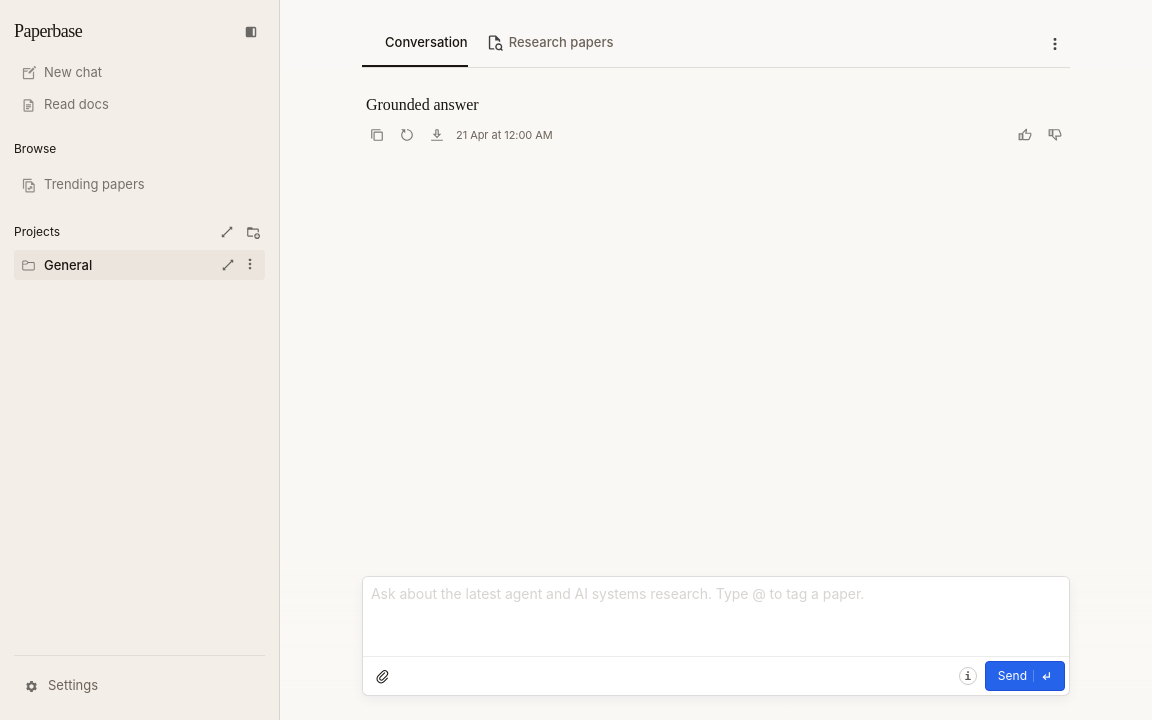
it: App › restores the active resource for an authenticated session
Click the button named "Open chat debug info". click: point(968, 676)
box: [959, 667, 977, 685]
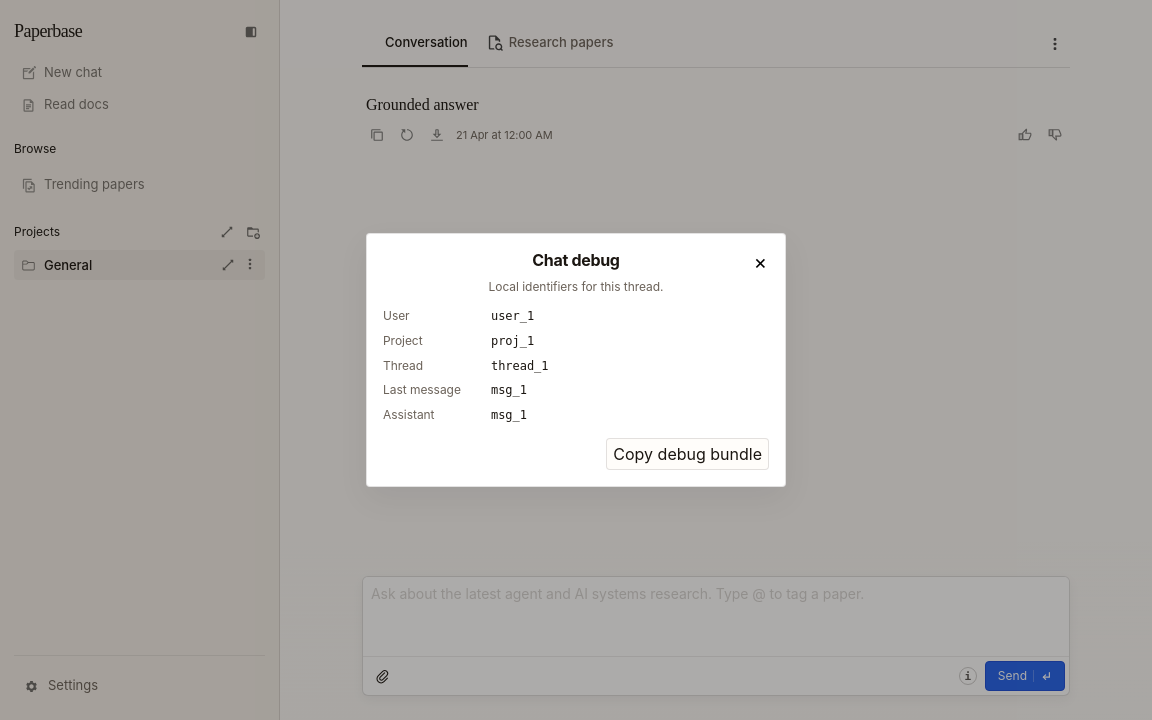
Check: the text "user_1" is shown, box [491, 309, 534, 323]
Check: the text "proj_1" is shown, box [491, 334, 534, 348]
Check: the text "thread_1" is shown, box [491, 359, 548, 373]
